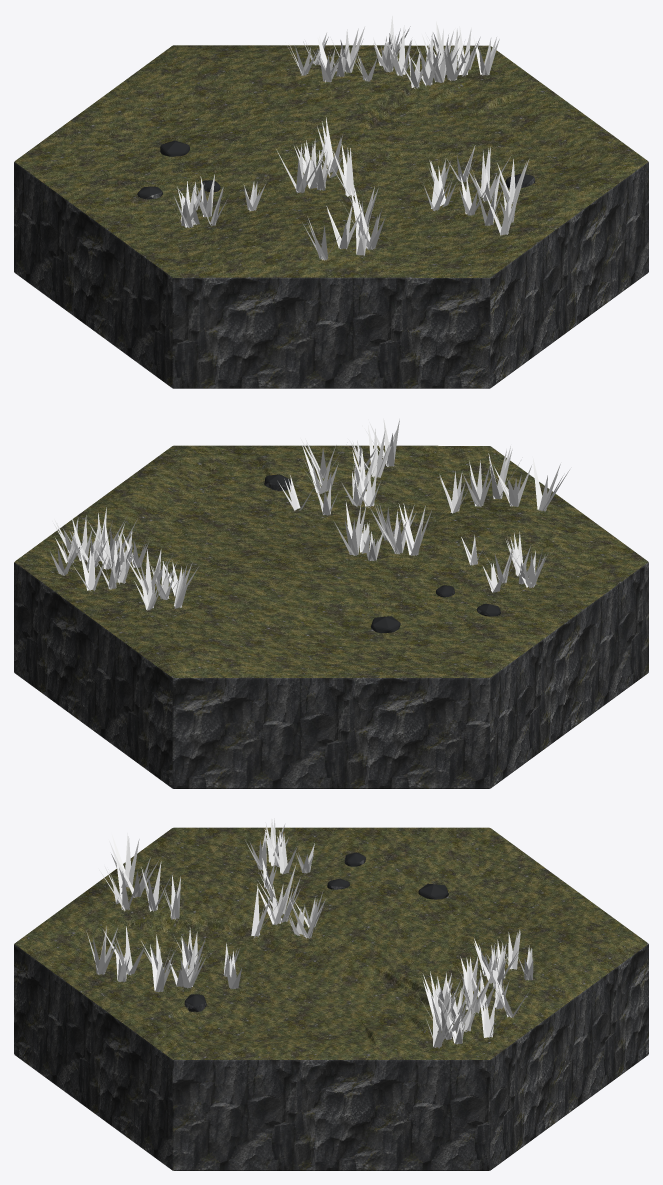
File: plains_living.glb
3 renders of one model, top to bottom at view 1: azimuth 30°, elevation 25°; view 2: azimuth 150°, elevation 25°; view 3: azimuth 270°, elevation 25°, orthographic.
Visible parts, largest first — view 1: Plains tile.005; view 2: Plains tile.005; view 3: Plains tile.005.
Boxes of the visible parts, box(x1,y1,x2,y2) form: Plains tile.005: box(14, 16, 648, 388); Plains tile.005: box(14, 418, 648, 788); Plains tile.005: box(14, 818, 648, 1170).
Size of the model in its own units: 1.7 by 0.5401 by 1.96.
Materials: 3 (2 with a texture image).
